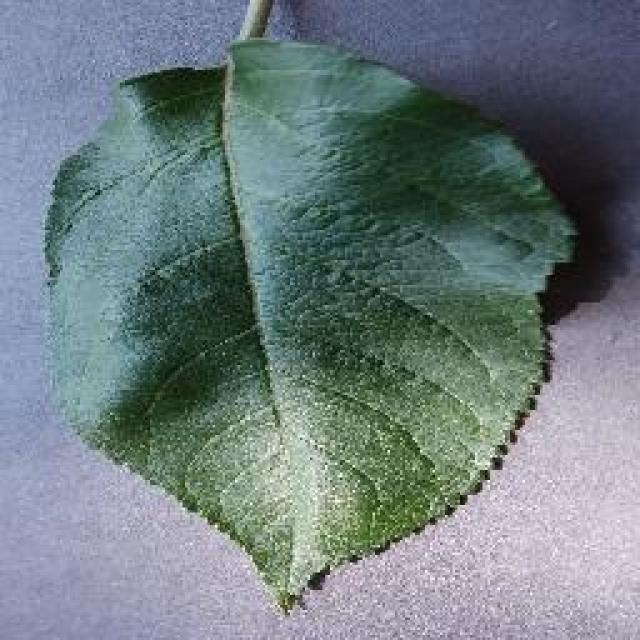apple healthy: (38, 25, 580, 615)
